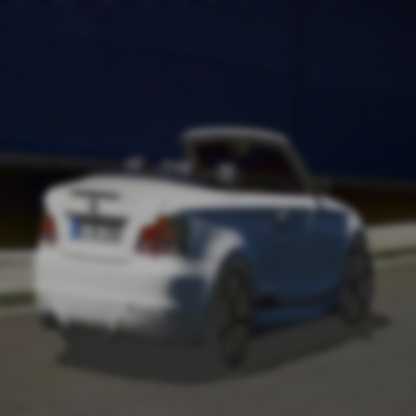Vehicle: (35, 125, 376, 381)
